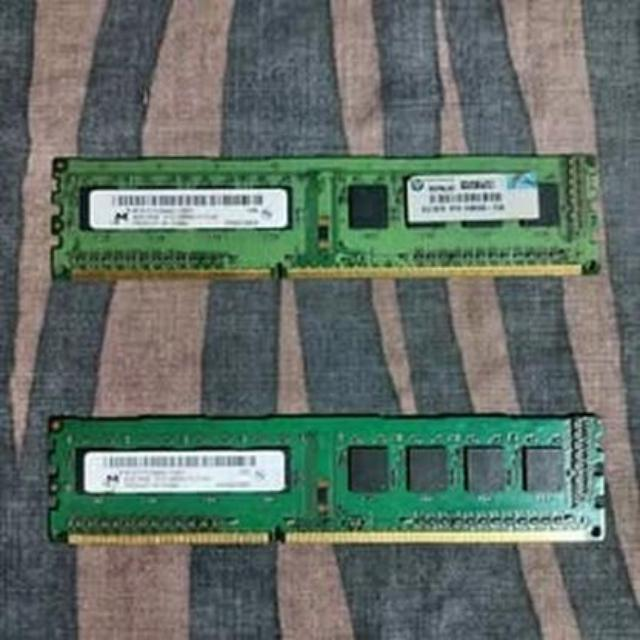RAM: (37, 421, 608, 553), (48, 153, 602, 278)
